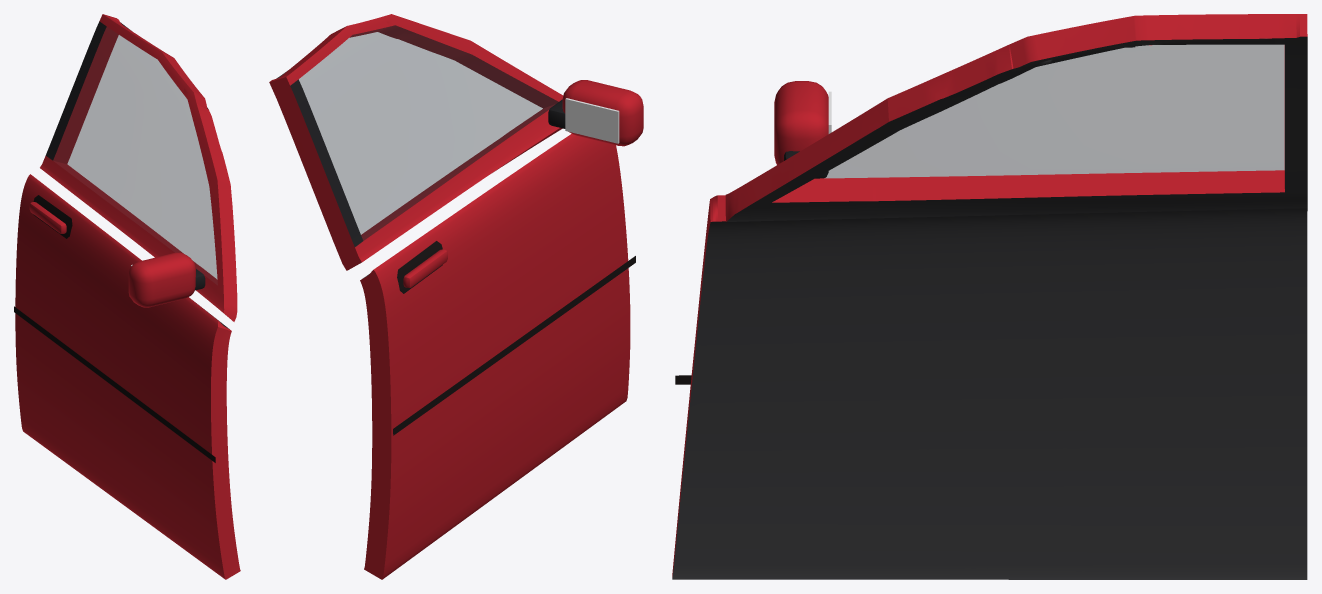
Rendered from door_front_right.glb.
3 views of the same model, side by side, from view 1: azimuth 30°, elevation 25°; view 2: azimuth 150°, elevation 25°; view 3: azimuth 270°, elevation 25° (orthographic). The views are drawn at different scales.
Visible parts, largest first — view 1: door_front_right; view 2: door_front_right; view 3: door_front_right.
Part boxes in pixels (x1,y1,x2,y2): door_front_right: [14, 14, 240, 579]; door_front_right: [269, 14, 643, 579]; door_front_right: [672, 14, 1307, 579].
Bounding box in the file's own units: 0.4227 × 1.08 × 0.9965.
